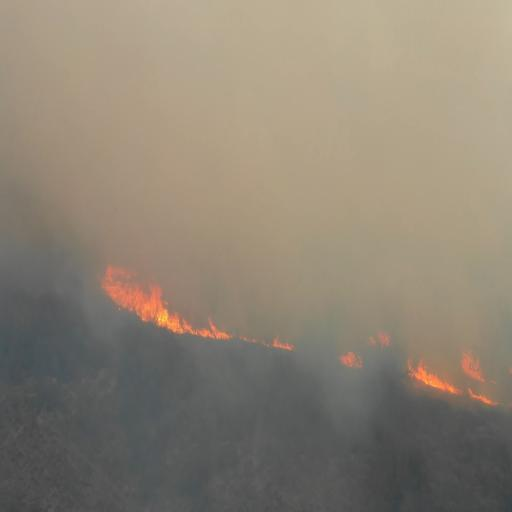fire: (134, 278, 173, 328), (108, 264, 141, 308)
smoke: (25, 0, 512, 186)
